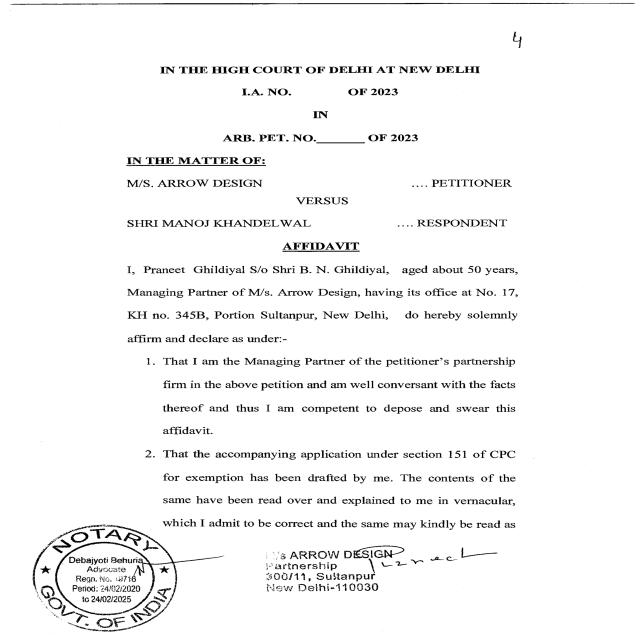page-number: (481, 6, 636, 169)
